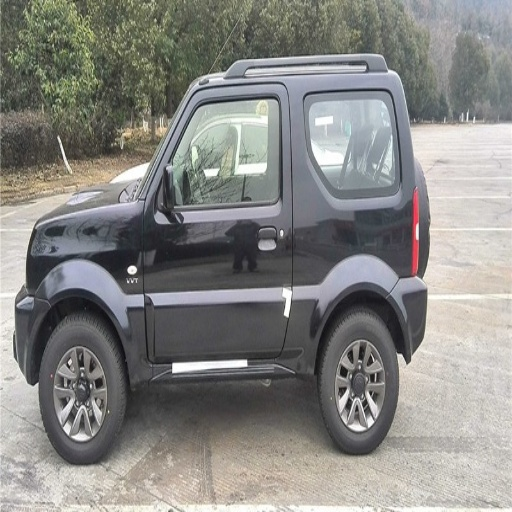back_glass: (311, 91, 369, 135)
